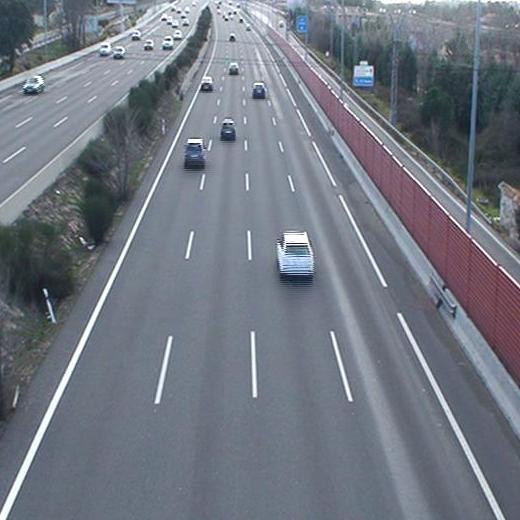car: (274, 229, 315, 279), (182, 137, 206, 170), (219, 119, 237, 142), (251, 81, 268, 100), (199, 76, 214, 92), (226, 62, 240, 76)
